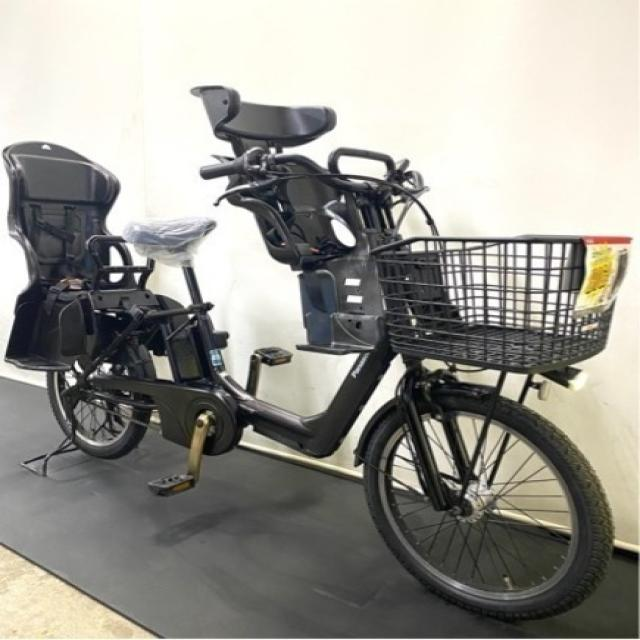basket: (372, 238, 630, 370)
battery: (166, 322, 210, 389)
childseat: (186, 80, 446, 360), (4, 136, 178, 368)
